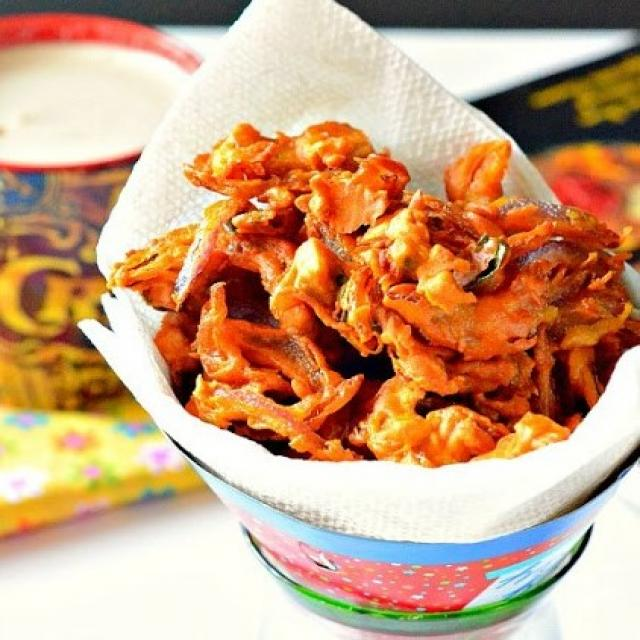Onion Pakora: (107, 117, 635, 468)
